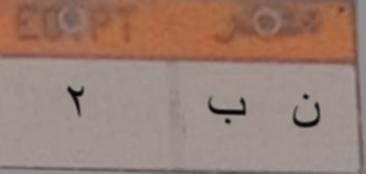2: (63, 80, 92, 117)
baa: (202, 91, 249, 130)
noon: (287, 88, 324, 134)
